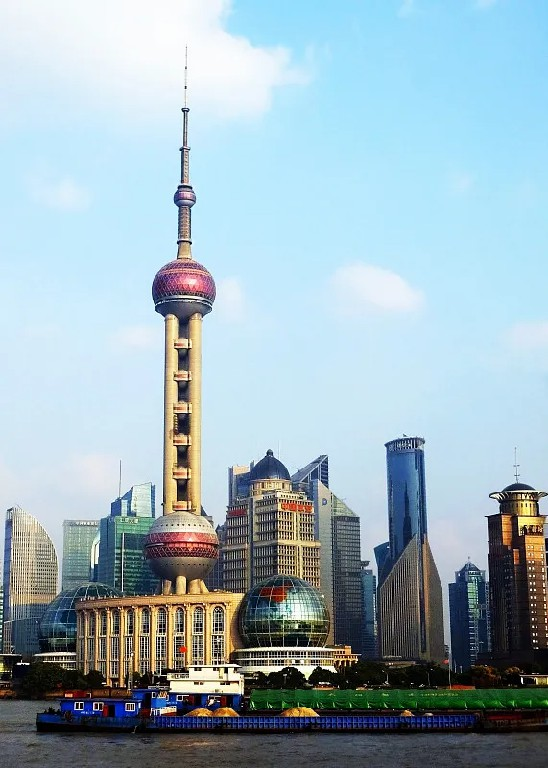Oriental: (145, 43, 220, 594)
